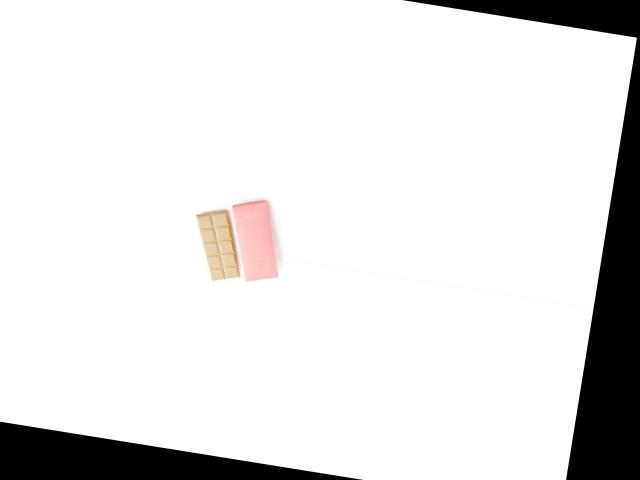chocolate: (186, 201, 254, 286)
